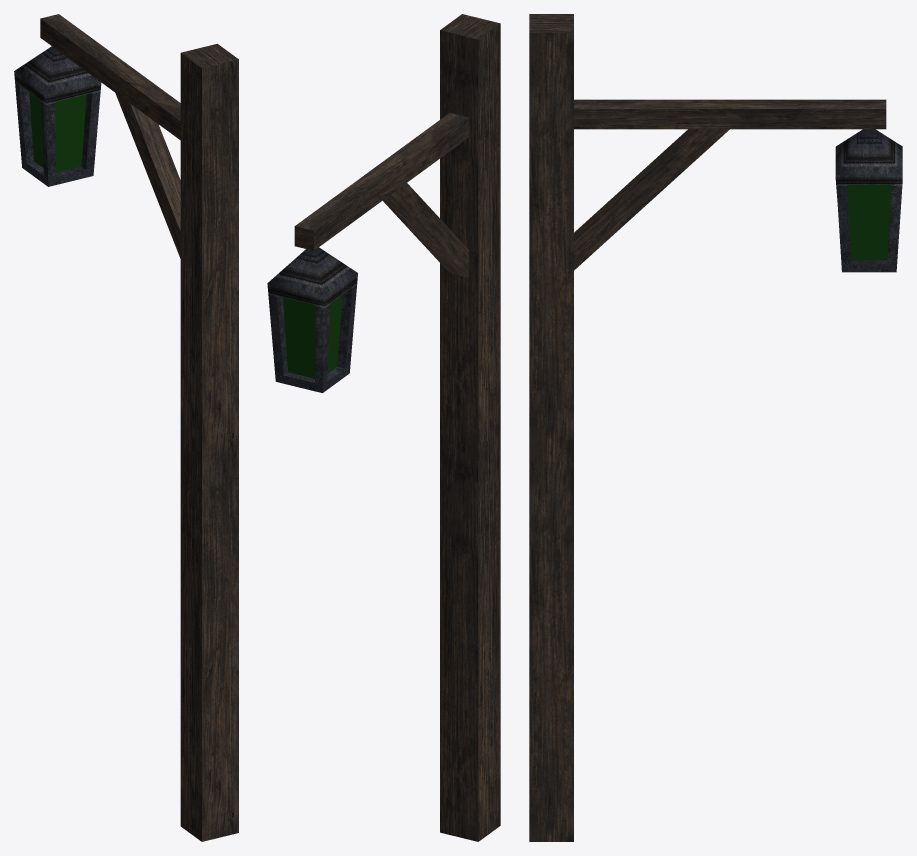
The model's file is StreetLight.fbx.
3 views of the same model, side by side, from view 1: azimuth 30°, elevation 25°; view 2: azimuth 150°, elevation 25°; view 3: azimuth 270°, elevation 25° (orthographic). The views are drawn at different scales.
Parts seen in each view (by area): view 1: Base_Pole, Lamp, Green; view 2: Base_Pole, Lamp, Green; view 3: Base_Pole, Lamp, Green.
Part boxes in pixels (left/top/right/bottom): Base_Pole: left=40, top=14, right=238, bottom=841; Lamp: left=14, top=46, right=101, bottom=186; Green: left=29, top=92, right=86, bottom=172; Base_Pole: left=294, top=14, right=500, bottom=841; Lamp: left=267, top=247, right=357, bottom=392; Green: left=283, top=295, right=342, bottom=378; Base_Pole: left=529, top=14, right=886, bottom=841; Lamp: left=835, top=129, right=902, bottom=272; Green: left=847, top=185, right=891, bottom=260.
Bounding box in the file's own units: 30 × 400 × 167.
Materials: 4 (4 with a texture image).
